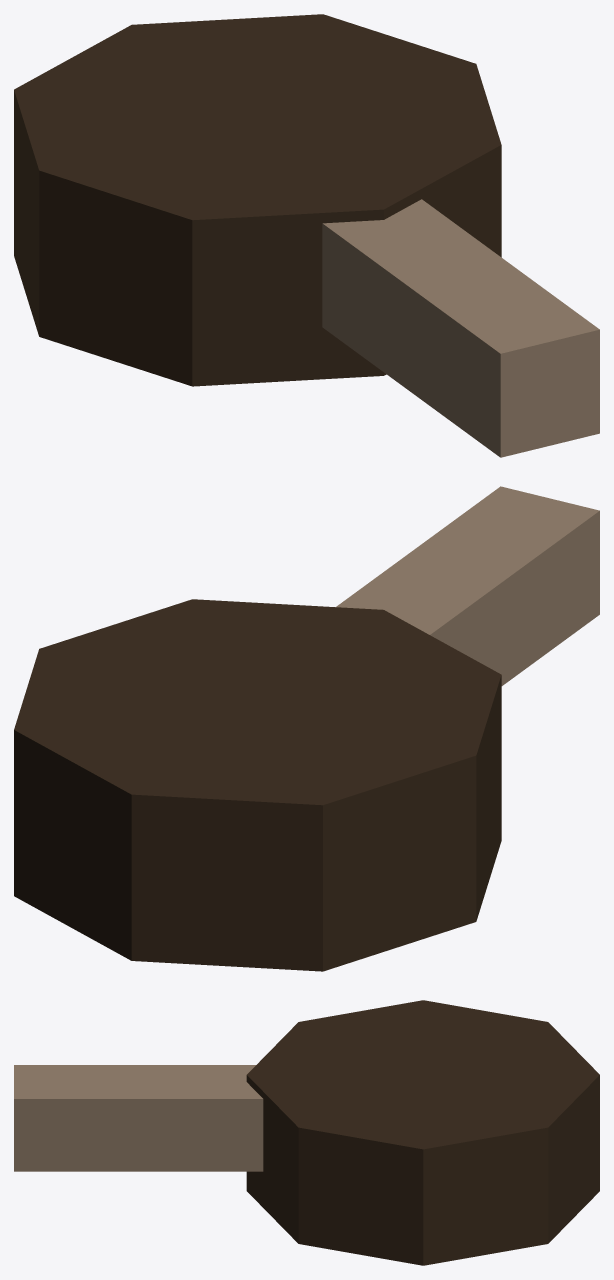
The model's file is turret.glb.
The picture shows the model from 3 angles, top to bottom: view 1: azimuth 30°, elevation 25°; view 2: azimuth 150°, elevation 25°; view 3: azimuth 270°, elevation 25°; orthographic projection. The views are drawn at different scales.
Visible parts, largest first — view 1: Drum, Barrel1; view 2: Drum, Barrel1; view 3: Drum, Barrel1.
Boxes of the visible parts, x1,y1,x2,y2 form: Drum: (14, 14, 501, 386); Barrel1: (322, 199, 599, 457); Drum: (14, 599, 501, 971); Barrel1: (336, 486, 599, 685); Drum: (246, 1000, 599, 1265); Barrel1: (14, 1065, 263, 1171).
Bounding box in the file's own units: 0.44 × 0.16 × 0.73.
